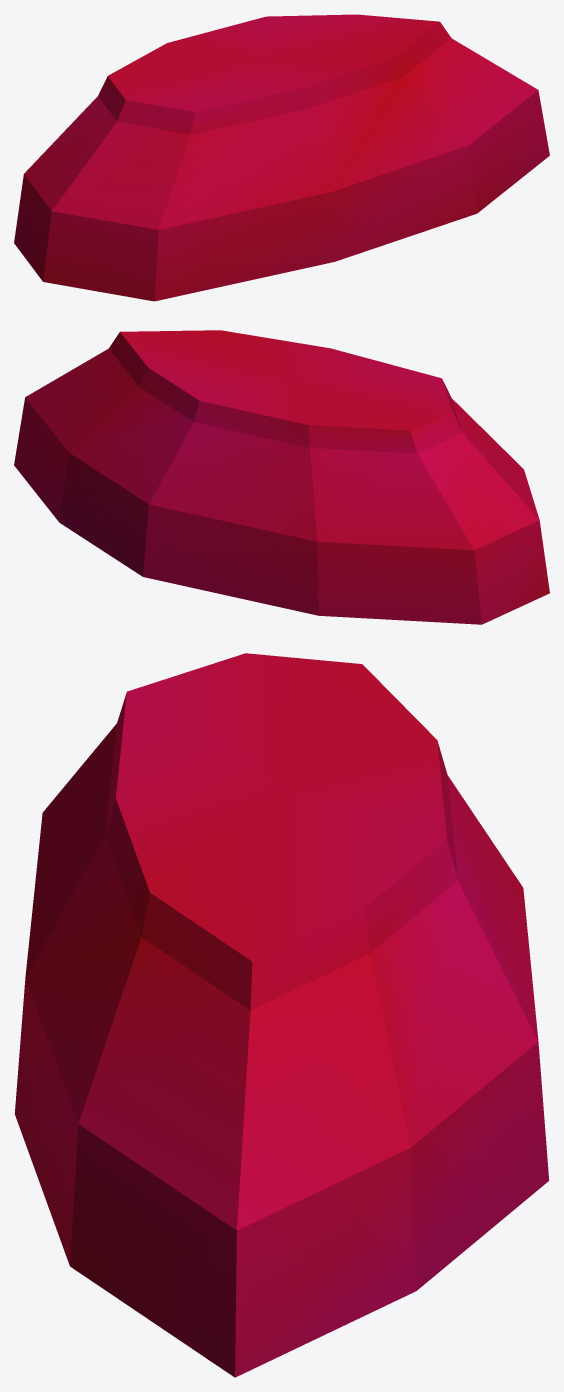
File: Mesa_Back_02.glb
3 renders of one model, top to bottom at view 1: azimuth 30°, elevation 25°; view 2: azimuth 150°, elevation 25°; view 3: azimuth 270°, elevation 25°, orthographic. The views are drawn at different scales.
Parts seen in each view (by area): view 1: Mesa_Back_02; view 2: Mesa_Back_02; view 3: Mesa_Back_02.
Boxes of the visible parts, x1,y1,x2,y2 form: Mesa_Back_02: (14,14,549,301); Mesa_Back_02: (14,330,549,624); Mesa_Back_02: (14,653,549,1377).
Bounding box in the file's own units: 78.35 × 23.01 × 35.58.
